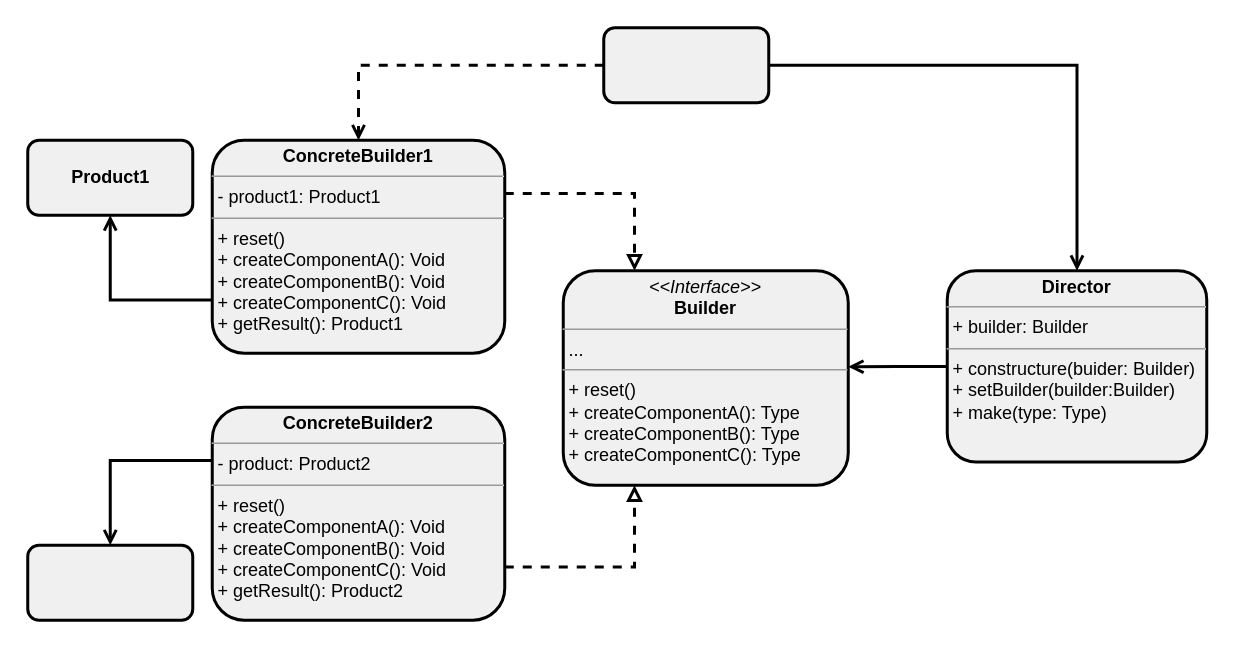
The diagram is 1233 pixels wide and 647 high, and some of its shapes have lost their labels. Here are the shapes that lost their labels. From the top down, the centre of each, then its label:
the point at 686,65: Client
the point at 110,582: Product2
